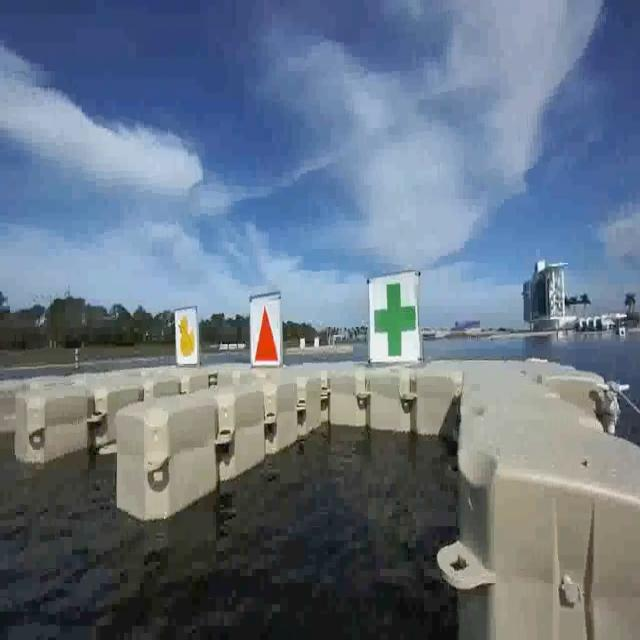blue-cross: (373, 279, 418, 366)
red-dot: (250, 293, 281, 370)
yellow-duck: (173, 310, 198, 366)
